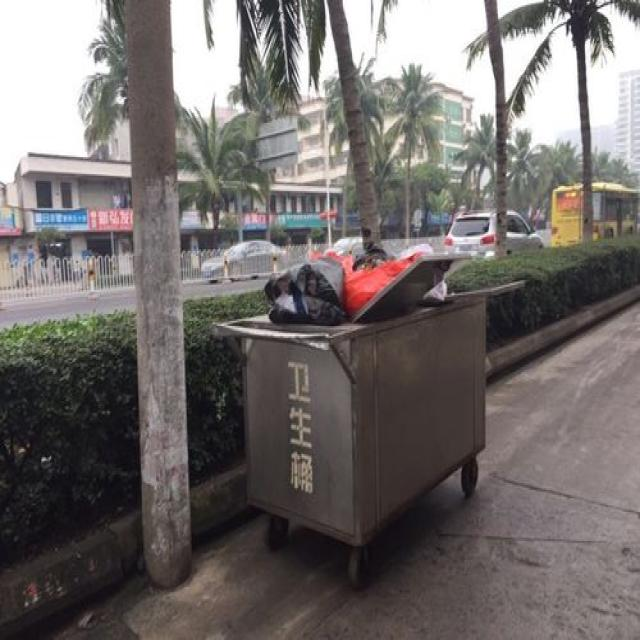overflow: (215, 242, 486, 543)
